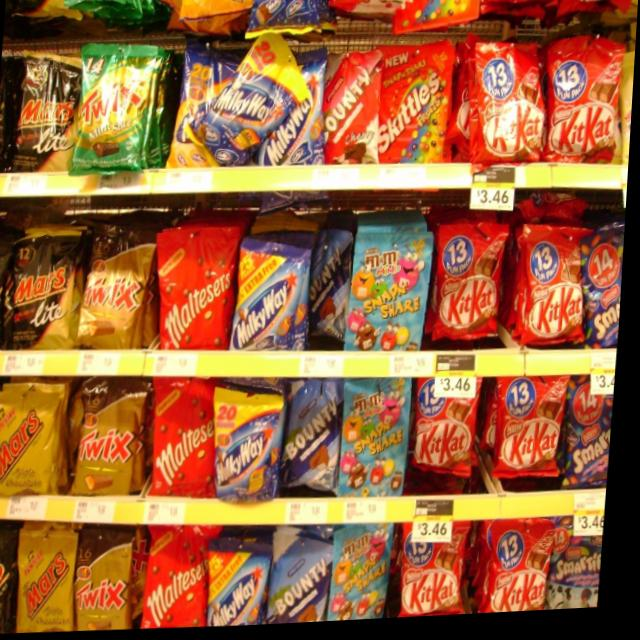q151: (372, 41, 458, 172)
q280: (509, 210, 604, 361), (541, 32, 632, 180), (432, 215, 524, 359), (467, 28, 549, 186), (405, 365, 498, 502), (498, 386, 569, 499), (494, 523, 563, 619), (406, 538, 473, 622)
